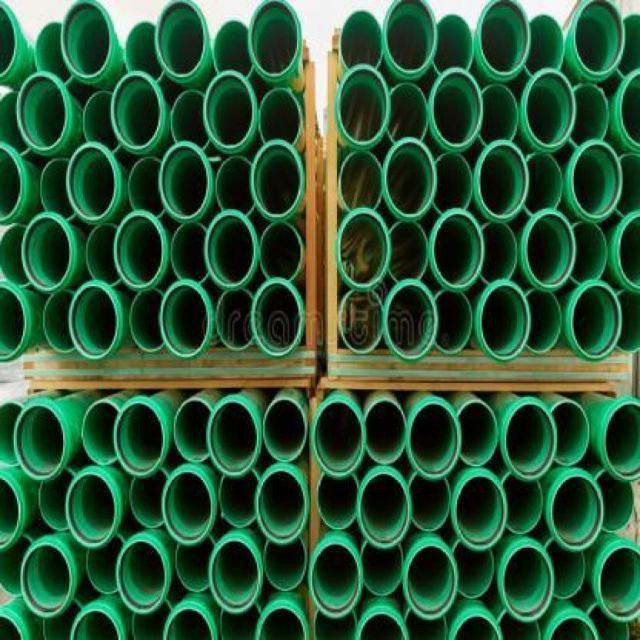pipe: (382, 139, 438, 224), (431, 208, 486, 293), (13, 399, 70, 481), (501, 397, 557, 480), (335, 208, 392, 289), (521, 209, 577, 291), (356, 468, 412, 550), (522, 67, 576, 152), (451, 469, 507, 550), (406, 399, 461, 481), (430, 69, 483, 154), (250, 140, 304, 223), (202, 70, 256, 153), (111, 70, 165, 153), (154, 0, 207, 84), (477, 279, 531, 361), (568, 280, 622, 362), (384, 280, 438, 362), (65, 467, 119, 549), (16, 72, 70, 154), (20, 540, 76, 619), (252, 278, 305, 361), (113, 210, 167, 291), (159, 279, 212, 361), (60, 0, 113, 82), (248, 0, 301, 82), (162, 464, 215, 546), (338, 63, 391, 145), (571, 0, 625, 80), (570, 141, 623, 222), (313, 398, 366, 479), (310, 538, 363, 619), (381, 0, 436, 78), (550, 474, 604, 553), (116, 536, 170, 615), (404, 542, 458, 621), (478, 140, 529, 223), (22, 212, 74, 293), (255, 467, 309, 544), (209, 538, 263, 615), (113, 400, 166, 478), (159, 141, 210, 222), (205, 210, 256, 291), (69, 281, 120, 360), (503, 546, 555, 623), (66, 143, 117, 220), (208, 400, 259, 477), (479, 0, 530, 76), (601, 394, 640, 482), (596, 543, 639, 622), (263, 398, 308, 463), (593, 468, 636, 535), (431, 151, 473, 217), (451, 539, 496, 600), (387, 219, 429, 284), (341, 289, 383, 354), (365, 400, 407, 465), (433, 13, 475, 78), (523, 13, 565, 78), (501, 471, 543, 536), (458, 401, 498, 468), (544, 538, 587, 600), (125, 20, 166, 85), (477, 83, 519, 146), (340, 150, 383, 211), (175, 397, 214, 464), (551, 399, 590, 466), (316, 472, 361, 530), (219, 469, 262, 529), (212, 19, 254, 80), (387, 82, 429, 143), (260, 222, 303, 281), (176, 535, 219, 594), (258, 89, 301, 148), (524, 151, 563, 216), (569, 83, 609, 146), (35, 21, 75, 84), (409, 473, 452, 531), (171, 90, 211, 152), (432, 291, 472, 353), (38, 469, 78, 531), (86, 532, 126, 594), (83, 90, 122, 153), (480, 222, 519, 285), (524, 291, 563, 354), (264, 535, 307, 592), (361, 541, 404, 598), (171, 222, 210, 284), (40, 158, 77, 223), (82, 400, 119, 465), (0, 534, 37, 599), (129, 468, 169, 528), (341, 11, 383, 68), (128, 157, 167, 218), (215, 156, 254, 216), (216, 289, 253, 352), (130, 289, 167, 352), (571, 222, 608, 284), (85, 223, 121, 286), (613, 209, 640, 292), (0, 283, 28, 363), (0, 472, 26, 555), (43, 288, 76, 353), (615, 70, 640, 153), (0, 92, 31, 157), (0, 224, 31, 287), (610, 151, 640, 216), (41, 597, 83, 640), (218, 601, 263, 640), (613, 288, 640, 352), (132, 598, 172, 640), (615, 12, 640, 79), (162, 609, 216, 640), (255, 609, 308, 640), (72, 609, 123, 640), (0, 400, 23, 468), (587, 604, 630, 640), (313, 607, 358, 640), (496, 607, 541, 640), (449, 613, 502, 640), (358, 613, 408, 640), (0, 0, 16, 76), (549, 618, 598, 640), (0, 611, 24, 640)
